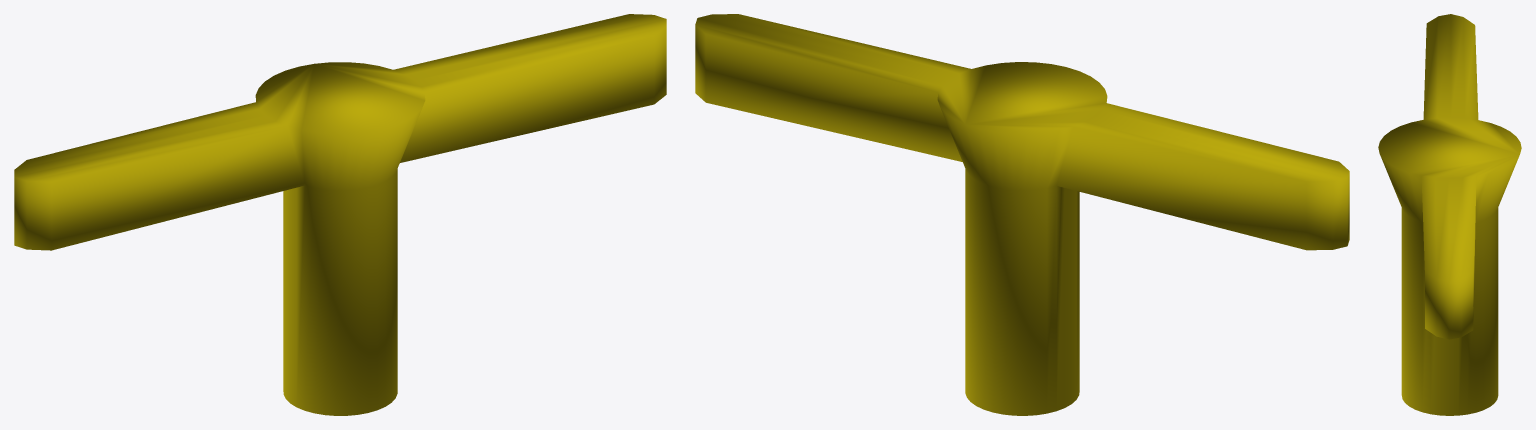
The model's file is RotatingPlatform2.fbx.
3 renders of one model, left to right at view 1: azimuth 30°, elevation 25°; view 2: azimuth 150°, elevation 25°; view 3: azimuth 270°, elevation 25°, orthographic. The views are drawn at different scales.
Parts seen in each view (by area): view 1: RotatingPlatform2; view 2: RotatingPlatform2; view 3: RotatingPlatform2.
Part boxes in pixels (<box>): RotatingPlatform2: <box>14,14,666,415</box>; RotatingPlatform2: <box>695,14,1349,415</box>; RotatingPlatform2: <box>1378,14,1521,415</box>.
Bounding box in the file's own units: 368 × 1624 × 700.
